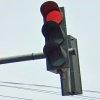traffic lights: (40, 2, 68, 72)
